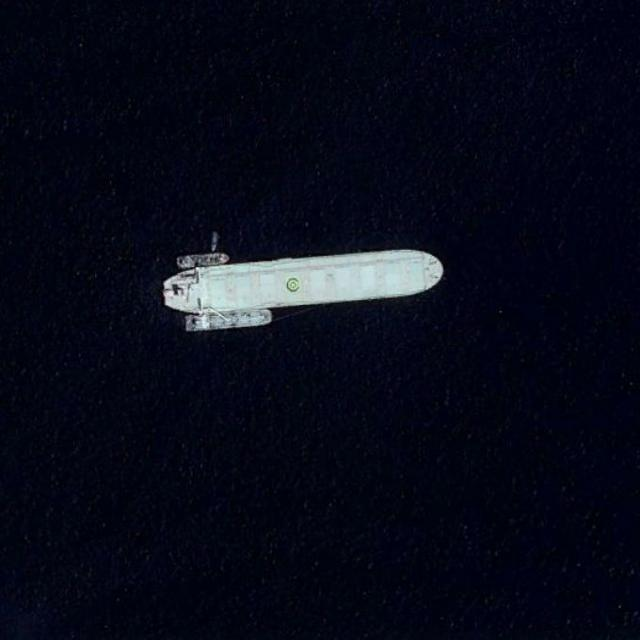ship: (161, 247, 443, 331)
